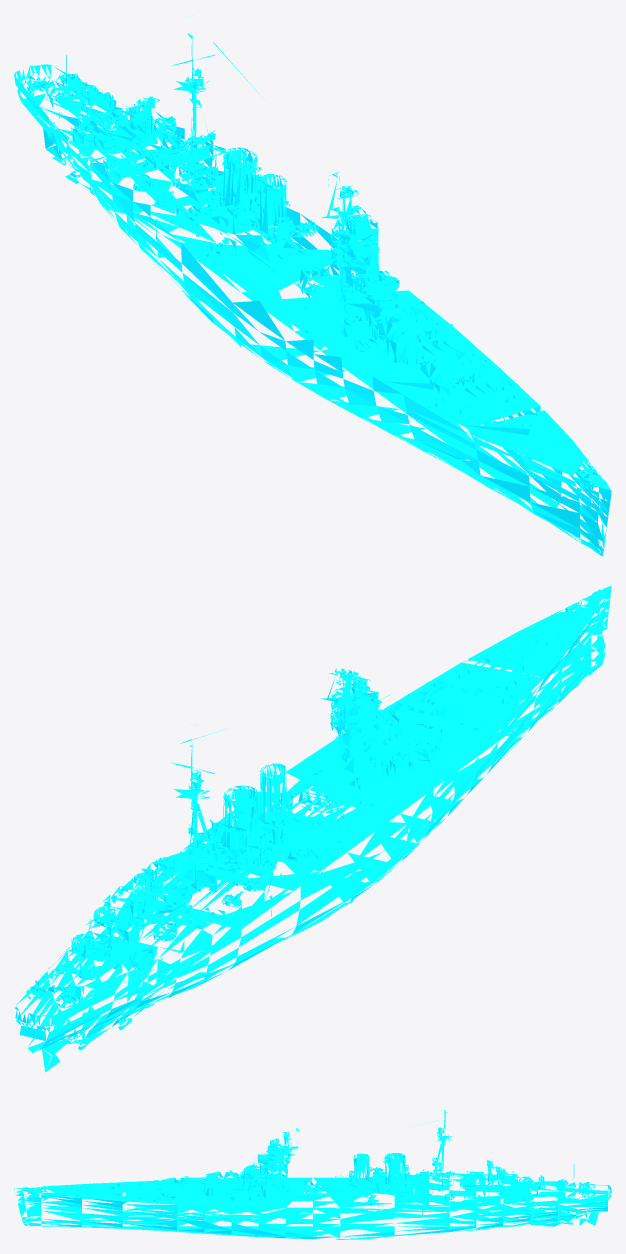
The model's file is Scarlet_Thunder.glb.
The picture shows the model from 3 angles, top to bottom: view 1: azimuth 30°, elevation 25°; view 2: azimuth 150°, elevation 25°; view 3: azimuth 270°, elevation 25°; orthographic projection. The views are drawn at different scales.
Size of the model in its own units: 2.16 by 4 by 17.52.
